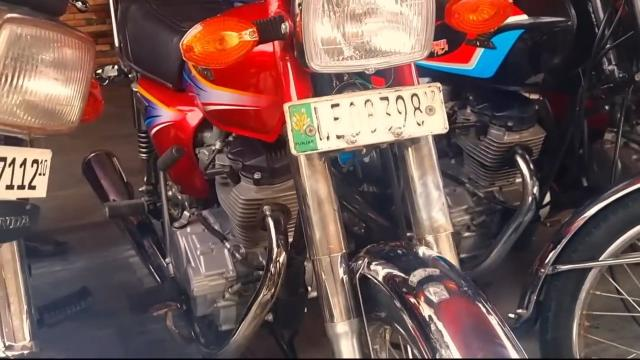plate: (285, 82, 451, 154)
